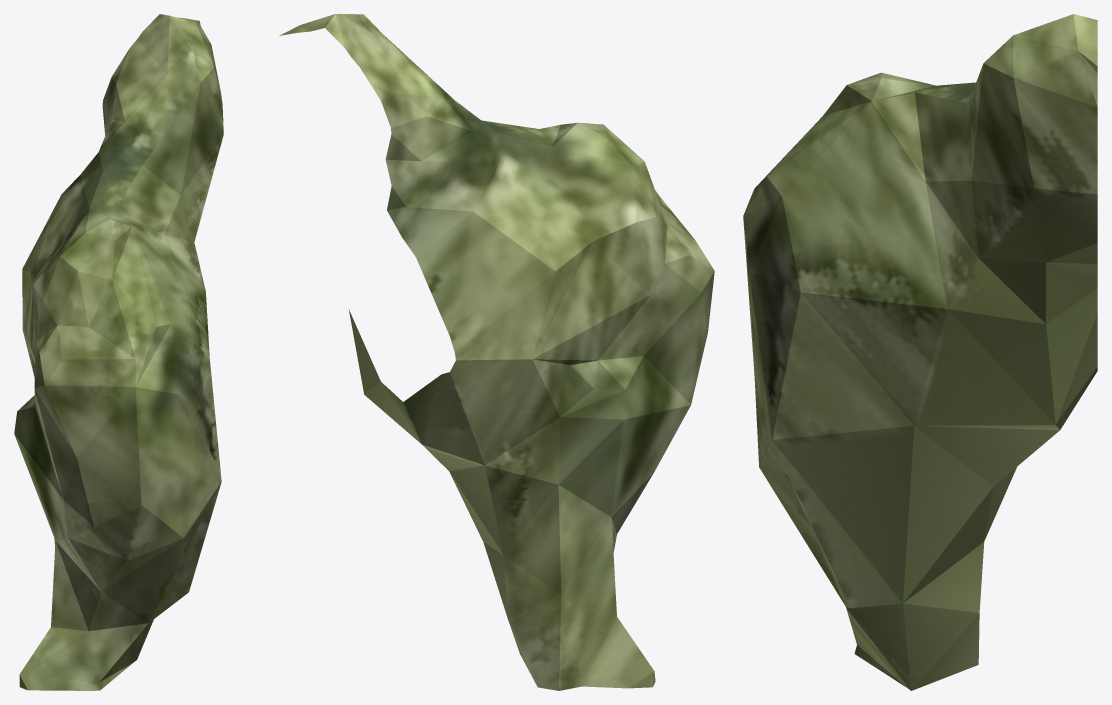
3 views of the same model, side by side, from view 1: azimuth 30°, elevation 25°; view 2: azimuth 150°, elevation 25°; view 3: azimuth 270°, elevation 25° (orthographic). The views are drawn at different scales.
Bounding box in the file's own units: 0.9837 × 1.87 × 0.8165.
Materials: 1 (1 with a texture image).
